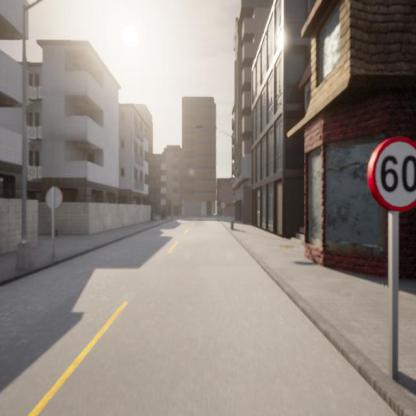traffic_sign_60: (368, 137, 416, 211)
